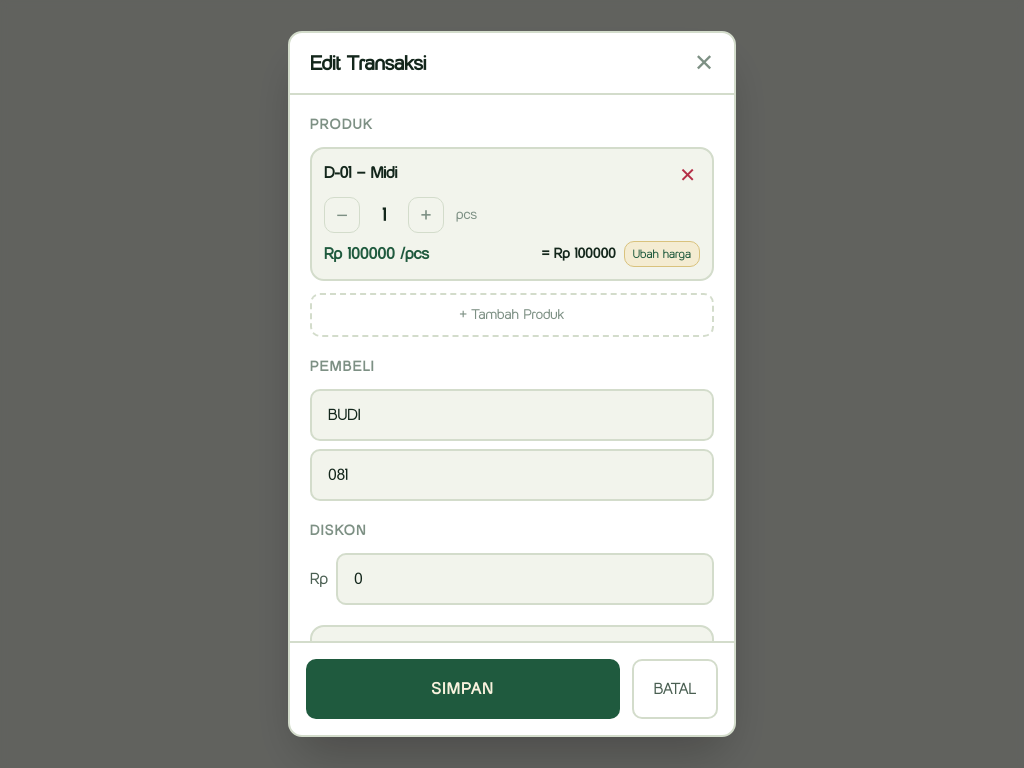
Test: EditSaleModal › opens a confirm dialog (not immediate alert) when decrementing the last unit of the only item
expect the text "1" is shown: met, box [382, 204, 386, 226]
What coordinates should you click on to do the following:
click the button "−"
I would click on:
 (342, 215)
Its box is [324, 197, 360, 233].
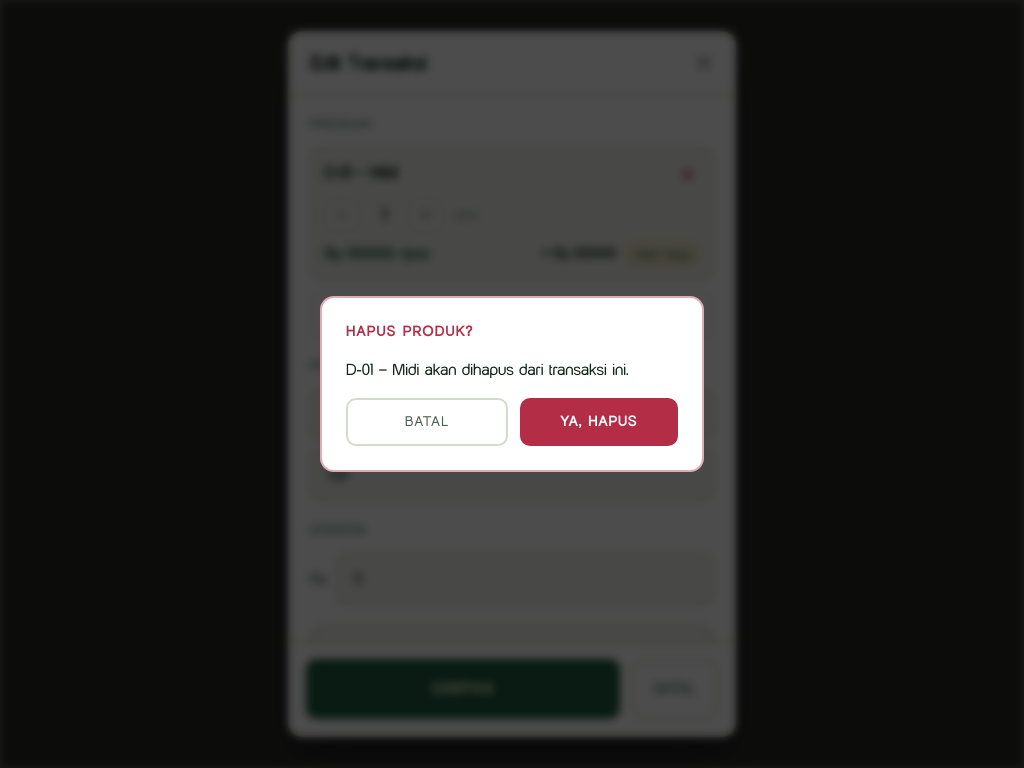
expect the text "Hapus Produk?" is shown: met, box [346, 323, 474, 340]
